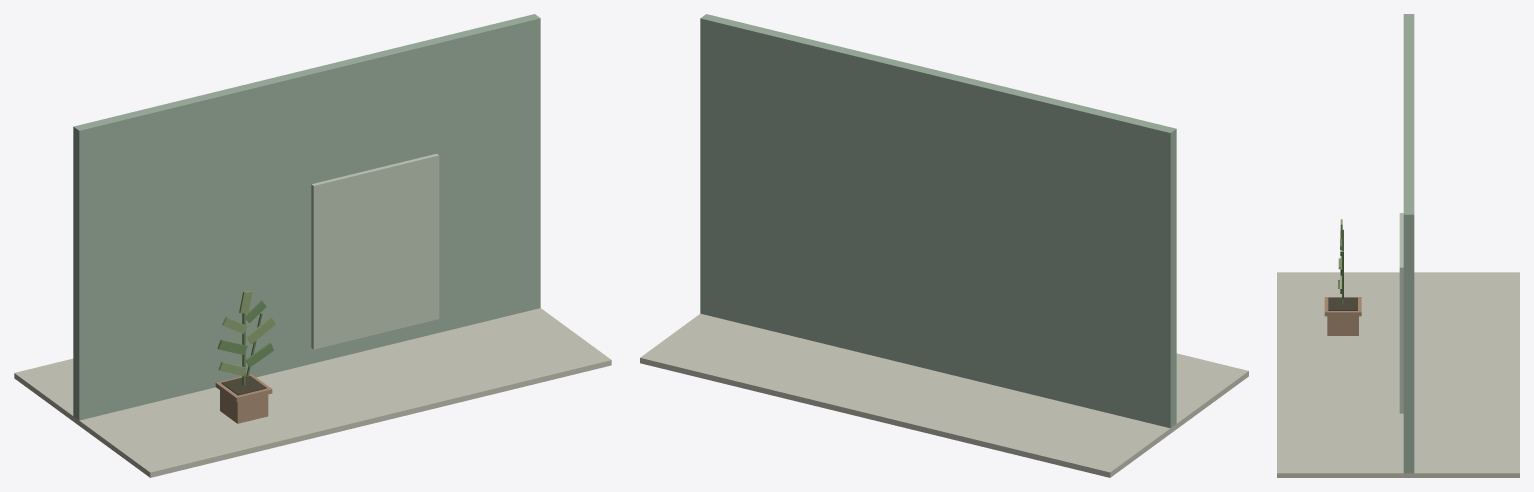
Rendered from default-botanical.glb.
3 views of the same model, side by side, from view 1: azimuth 30°, elevation 25°; view 2: azimuth 150°, elevation 25°; view 3: azimuth 270°, elevation 25° (orthographic). The views are drawn at different scales.
Visible parts, largest first — view 1: botanical back wall, distant botanical floor, pale sage inset panel, planter main body; view 2: botanical back wall, distant botanical floor; view 3: distant botanical floor, botanical back wall, pale sage inset panel, planter main body, planter soil surface, planter rim.
Part boxes in pixels (bbox=[...]): botanical back wall: bbox=[73, 14, 540, 420]; distant botanical floor: bbox=[14, 308, 611, 477]; pale sage inset panel: bbox=[311, 153, 439, 349]; planter main body: bbox=[220, 390, 268, 423]; botanical back wall: bbox=[700, 14, 1176, 428]; distant botanical floor: bbox=[640, 313, 1248, 477]; distant botanical floor: bbox=[1277, 272, 1519, 477]; botanical back wall: bbox=[1403, 14, 1414, 473]; pale sage inset panel: bbox=[1399, 213, 1403, 413]; planter main body: bbox=[1327, 316, 1358, 335]; planter soil surface: bbox=[1328, 297, 1357, 310]; planter rim: bbox=[1324, 297, 1361, 316].
Bounding box in the file's own units: 1.8 × 1.1 × 0.92.
